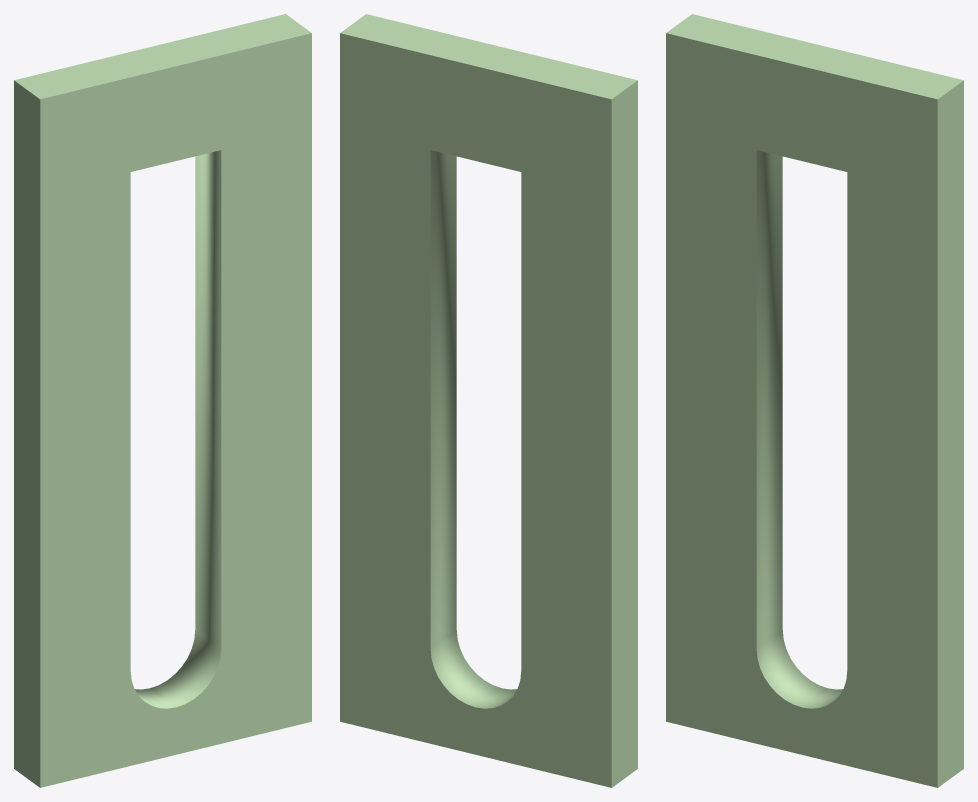
Rendered from Dodai.fbx.
The picture shows the model from 3 angles, left to right: view 1: azimuth 30°, elevation 25°; view 2: azimuth 150°, elevation 25°; view 3: azimuth 330°, elevation 25°; orthographic projection.
Visible parts, largest first — view 1: Circle; view 2: Circle; view 3: Circle.
Boxes of the visible parts, bbox=[...] form: Circle: bbox=[14, 14, 311, 787]; Circle: bbox=[340, 14, 637, 787]; Circle: bbox=[666, 14, 963, 787].
Bounding box in the file's own units: 600 × 1453 × 100.
